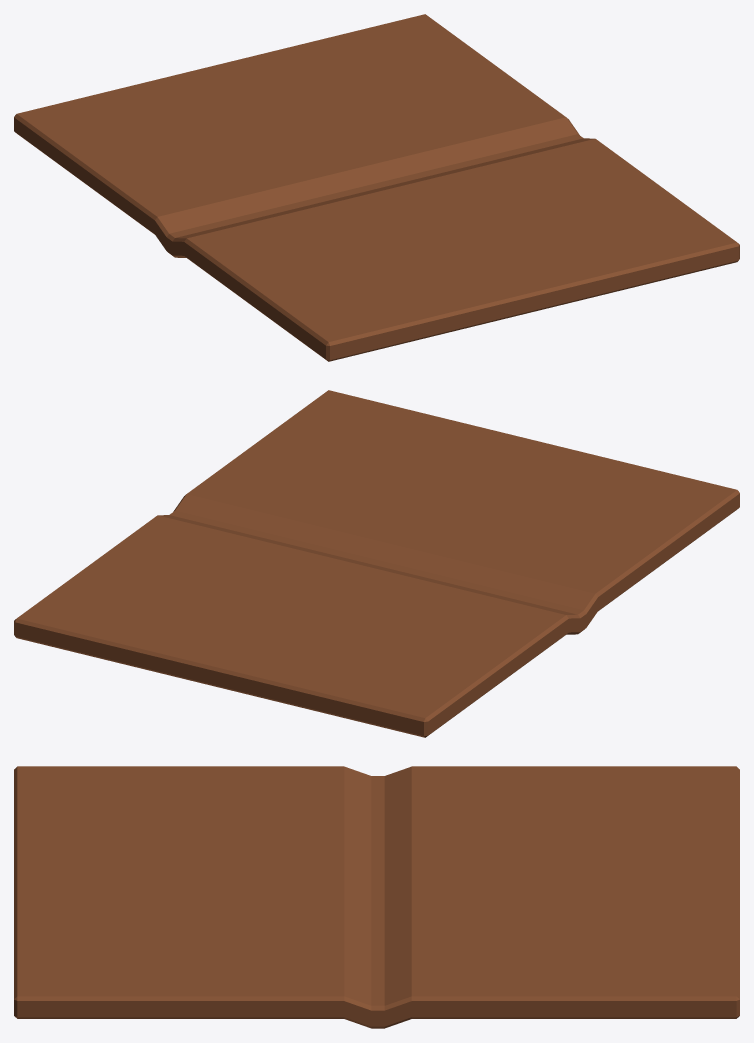
File: BookCover.fbx
3 views of the same model, one above another, from view 1: azimuth 30°, elevation 25°; view 2: azimuth 150°, elevation 25°; view 3: azimuth 270°, elevation 25° (orthographic). The views are drawn at different scales.
Parts seen in each view (by area): view 1: Cube; view 2: Cube; view 3: Cube.
Part boxes in pixels (x1=…): Cube: x1=14, y1=14, x2=739, y2=361; Cube: x1=14, y1=390, x2=739, y2=737; Cube: x1=14, y1=766, x2=739, y2=1028.
Size of the model in its own units: 1578 by 102 by 2080.
